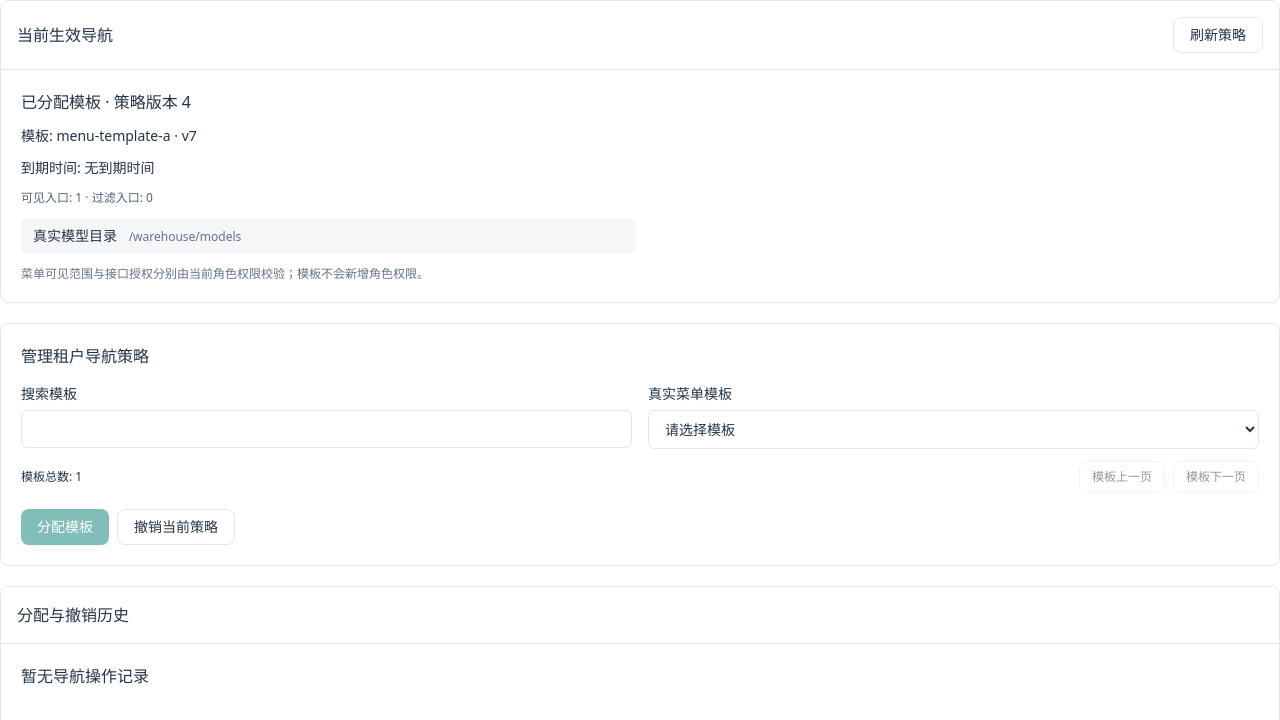
Test: navigation management › does not reopen a closed pending dialog or show a late receipt, while refreshing actual policy
This screenshot has width=1280, height=720.
Select "财务导航模板 · v7" in the dropdown labelled "真实菜单模板" at (954, 430), box [648, 410, 1259, 449]
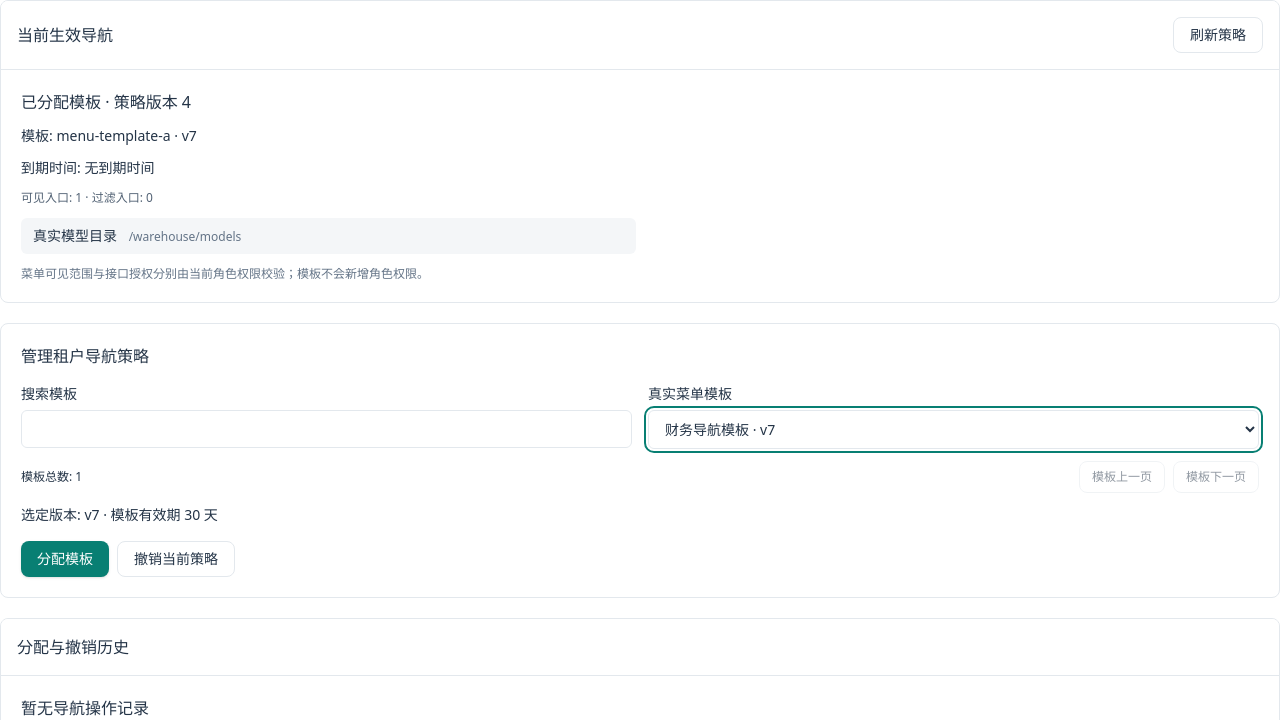
Now the button "分配模板" is enabled
Click the button "分配模板" at (65, 559), box [21, 541, 109, 577]
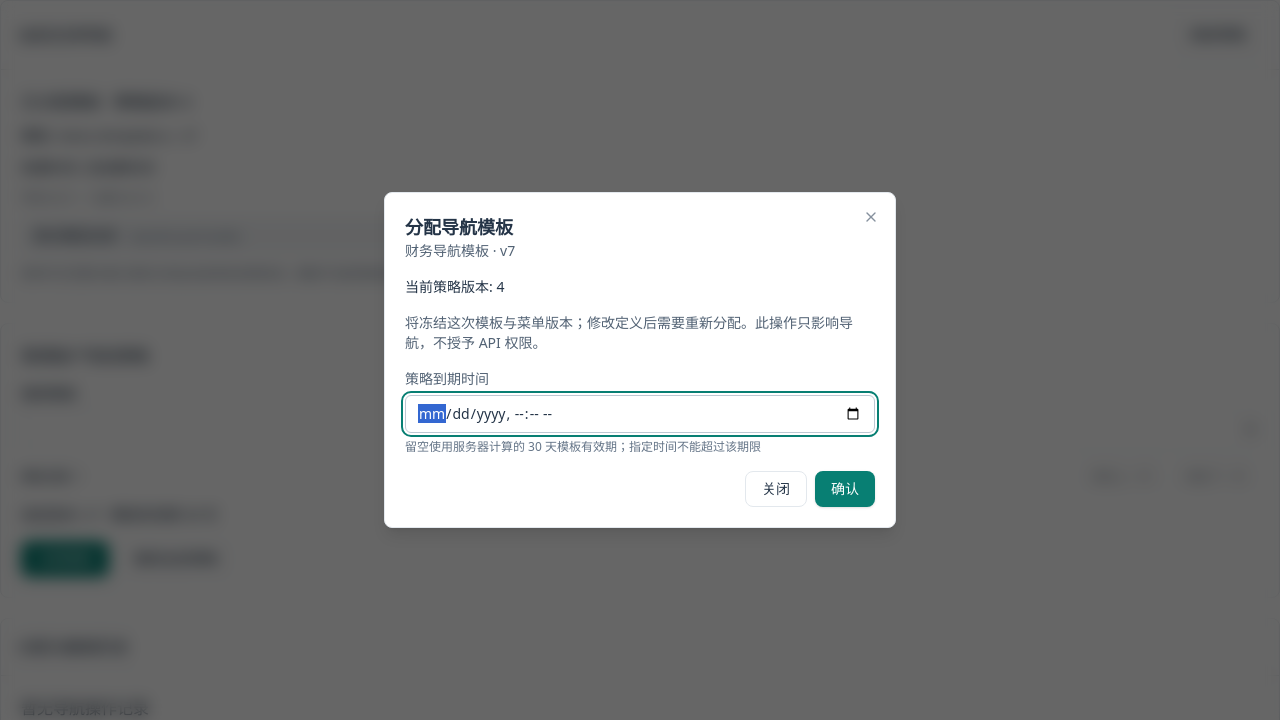
Click the button "确认" at (845, 489), box [815, 471, 875, 507]
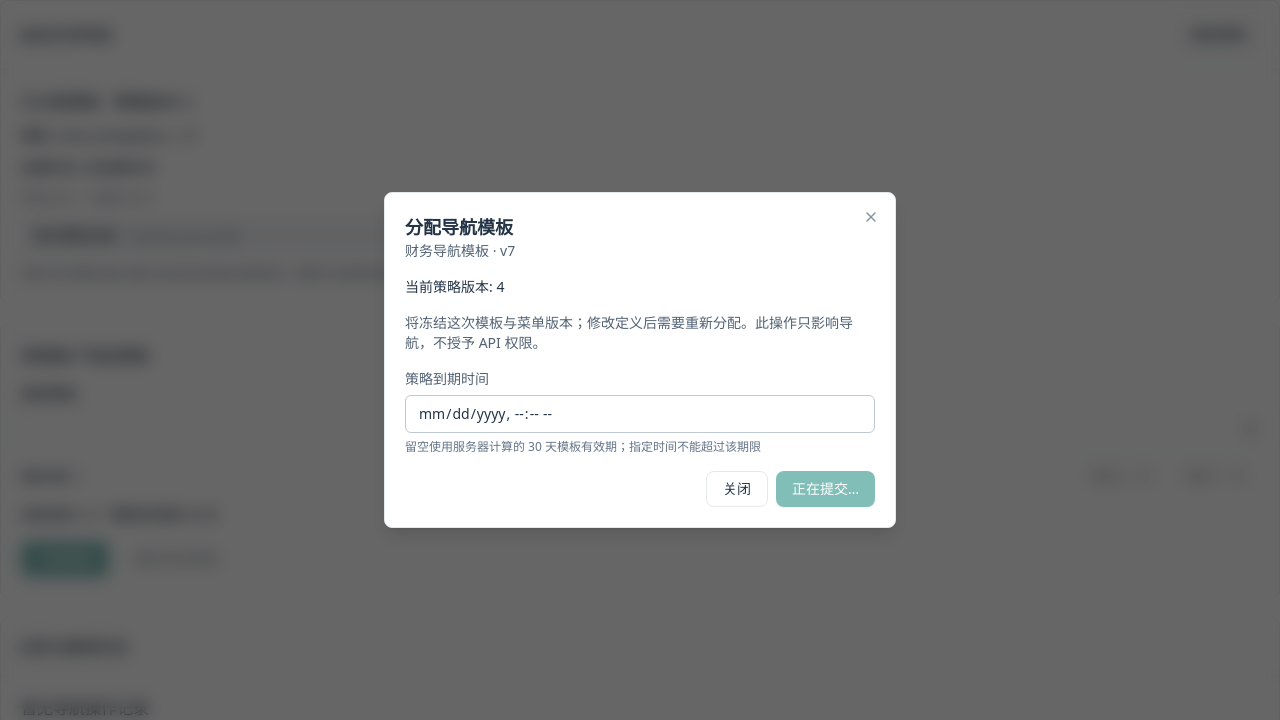
Click the button "关闭" at (737, 489), box [706, 471, 768, 507]
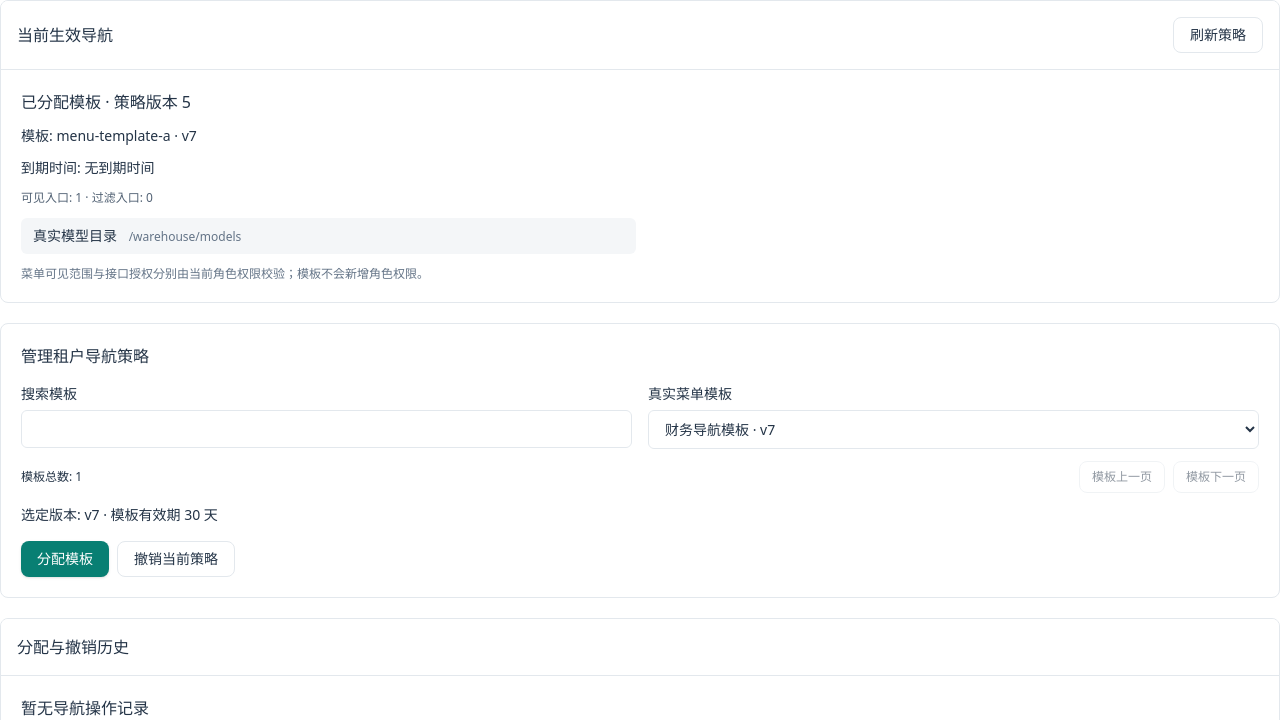
Now the text "已分配模板 · 策略版本 5" is shown, box [21, 91, 191, 113]
Now the dialog is gone
